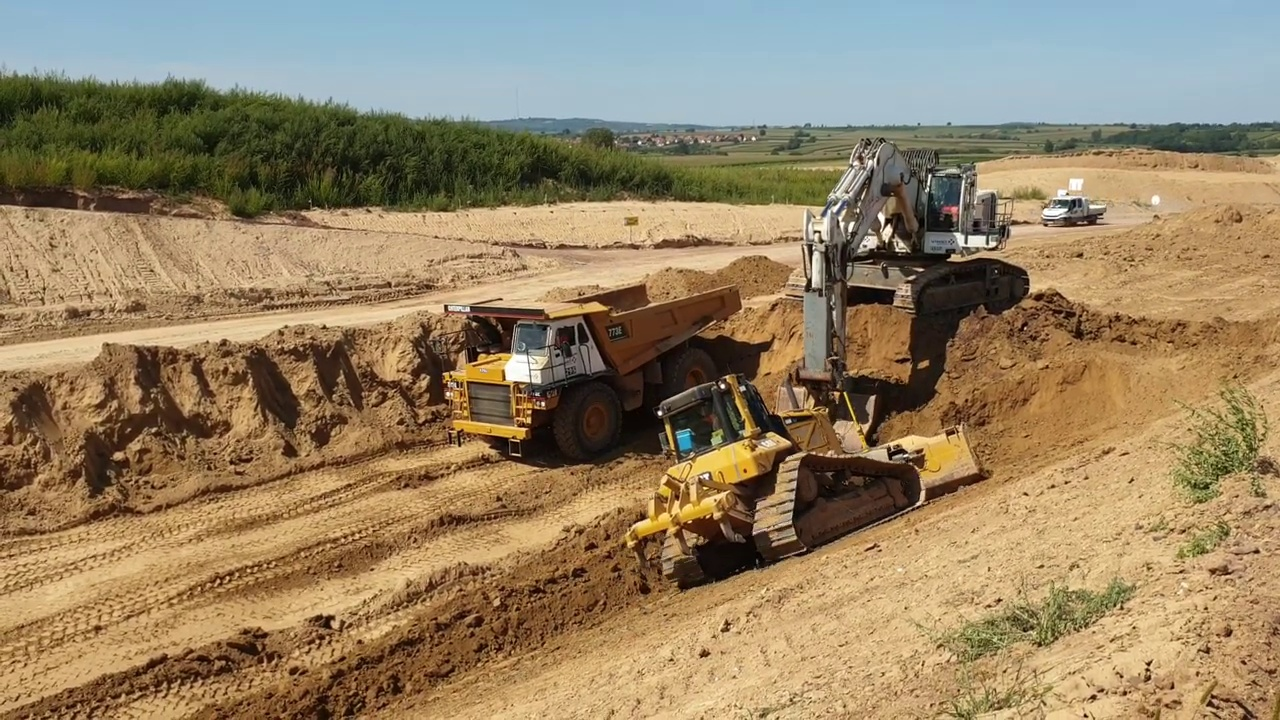bulldozer: (619, 354, 994, 596)
excavator: (746, 137, 1033, 483)
truck: (439, 276, 743, 472), (1039, 188, 1109, 231)
